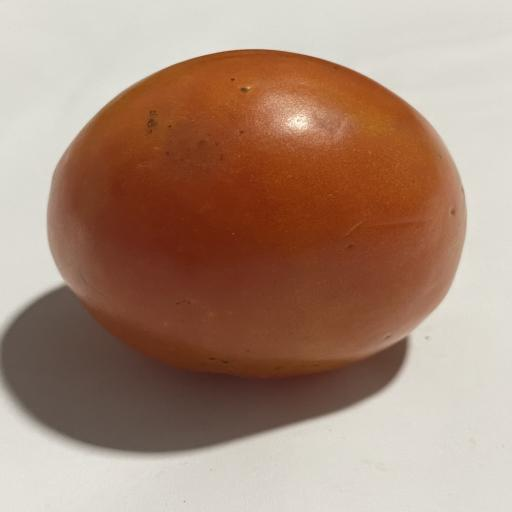unripe: (48, 50, 466, 377)
